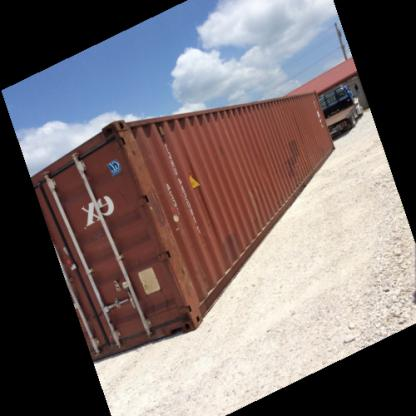Damage: (144, 188, 197, 303), (106, 120, 154, 192)
